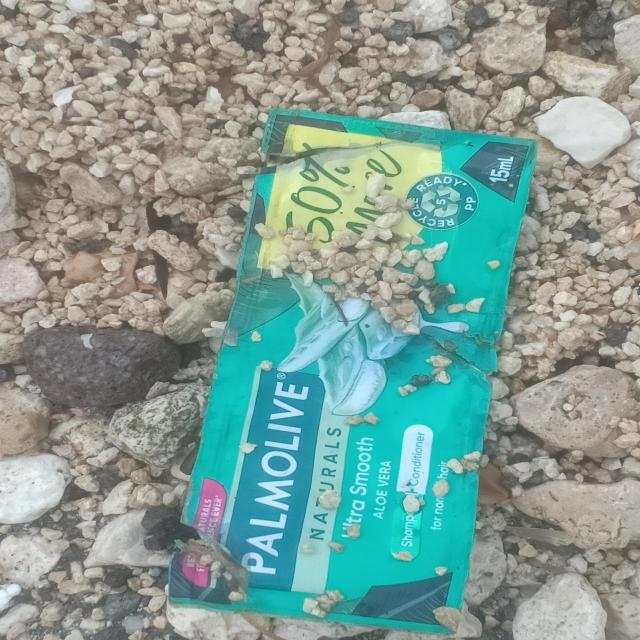plastic_waste: (164, 105, 540, 637)
